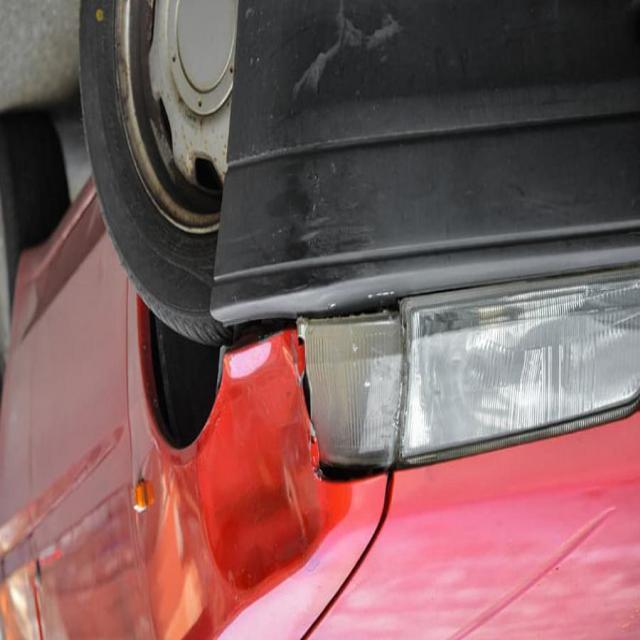dent: (162, 328, 354, 620)
